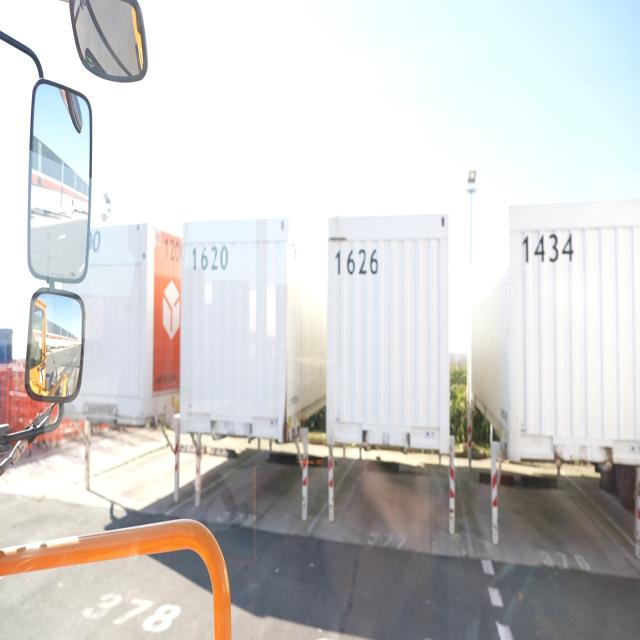Code: (517, 228, 577, 270), (332, 238, 381, 286), (189, 237, 235, 275)
